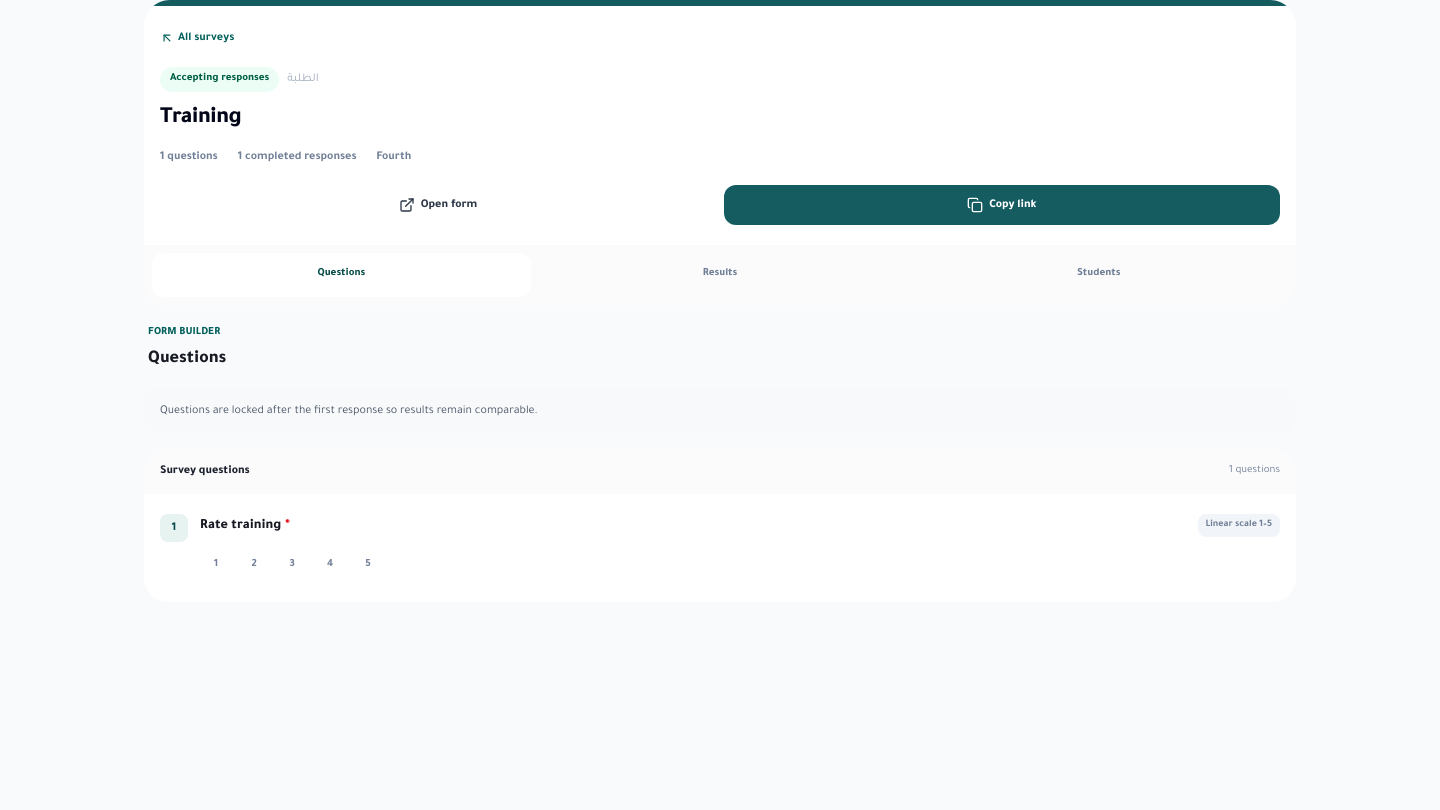
quality workspace › keeps questions, results and participation in one survey workspace
Expected: the heading "Rate training*" is shown, [200,518,290,532]
Click the button with aria-label "Results & responses": {"x": 720, "y": 274} [531,252,909,296]
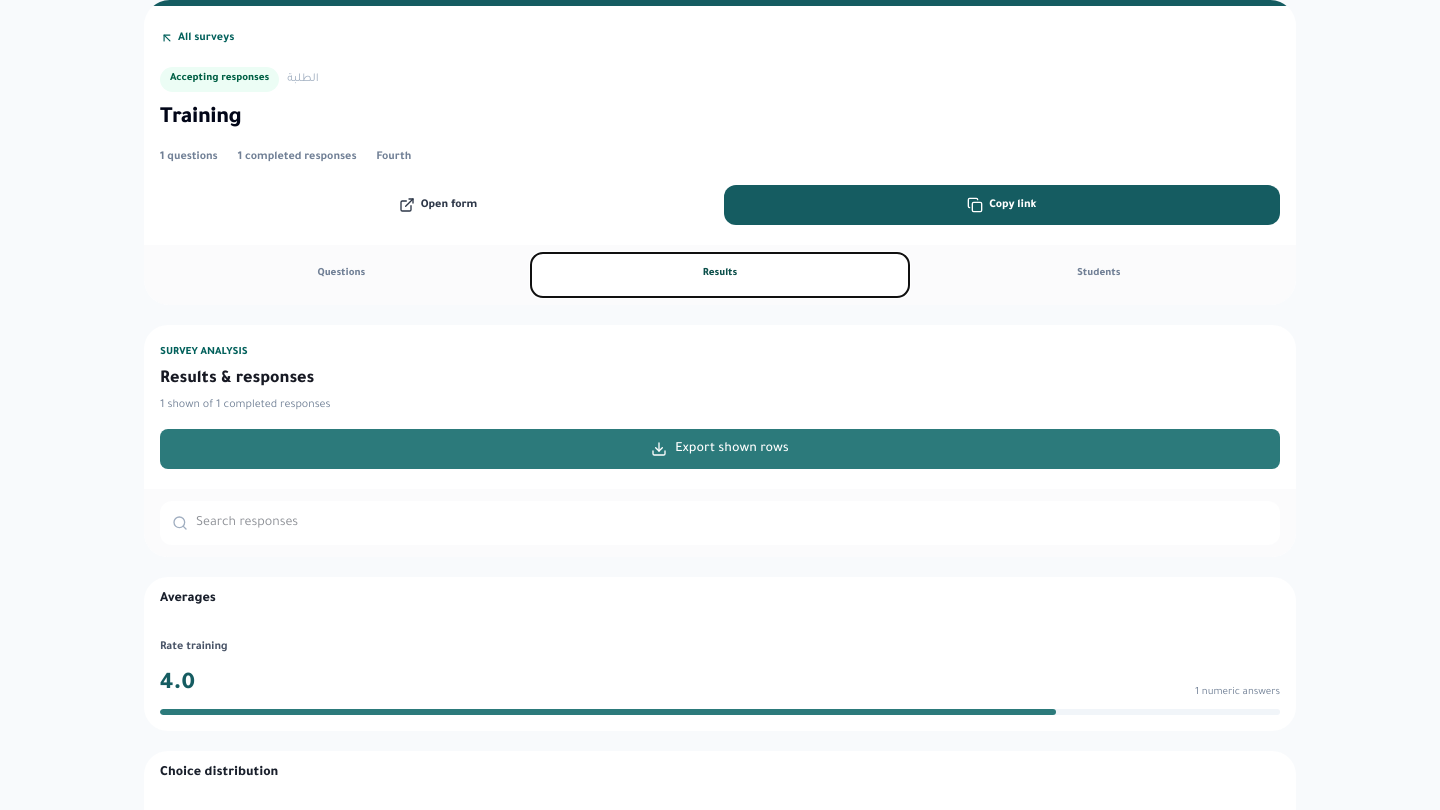
Now the element named "Score summary" shows "4.0", box [160,673,195,697]
Click the button with aria-label "Student participation": {"x": 1099, "y": 274} [909,252,1288,296]
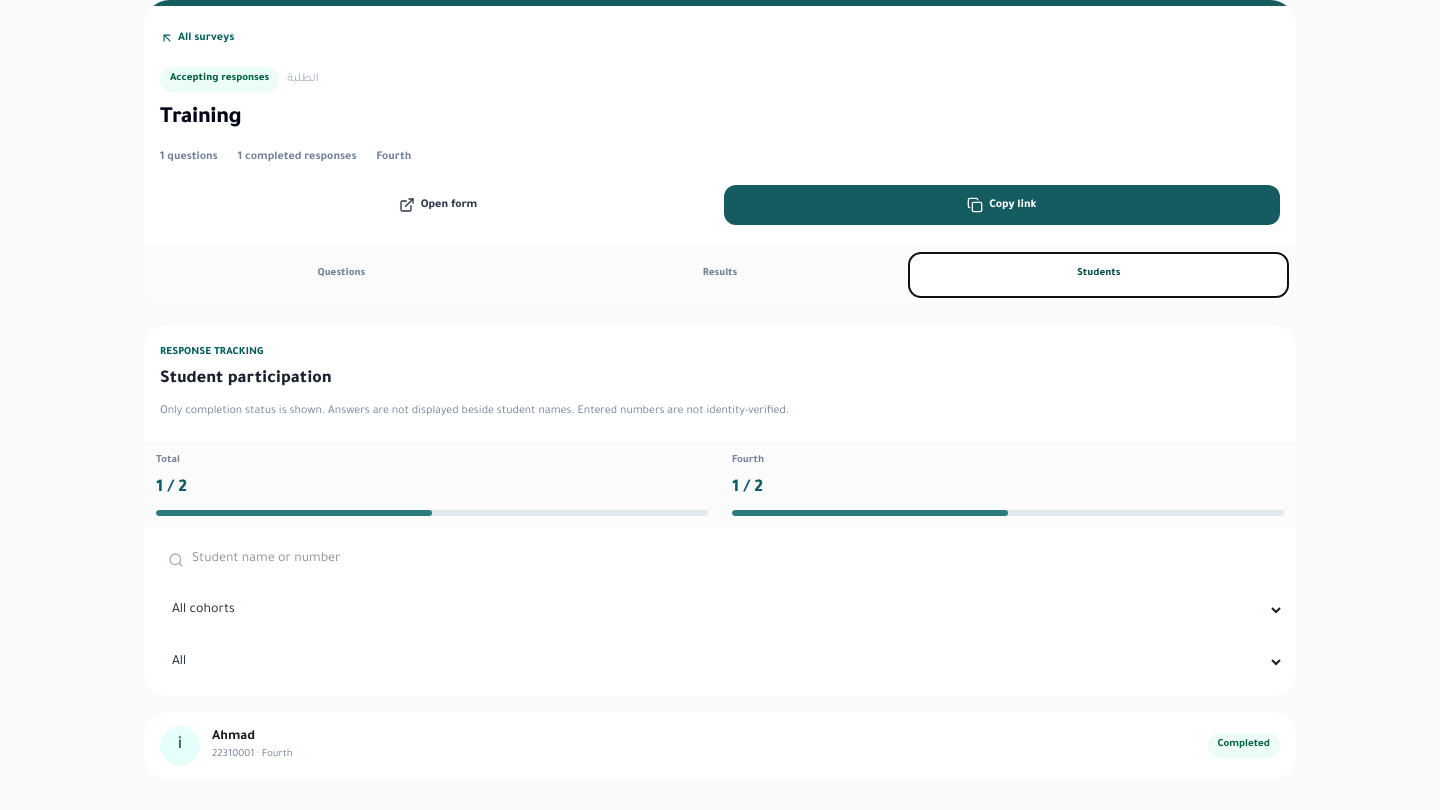
Expected: the heading "Training" is shown, [160,106,241,130]
Now the text "Ahmad" is shown, box [212,730,255,744]
